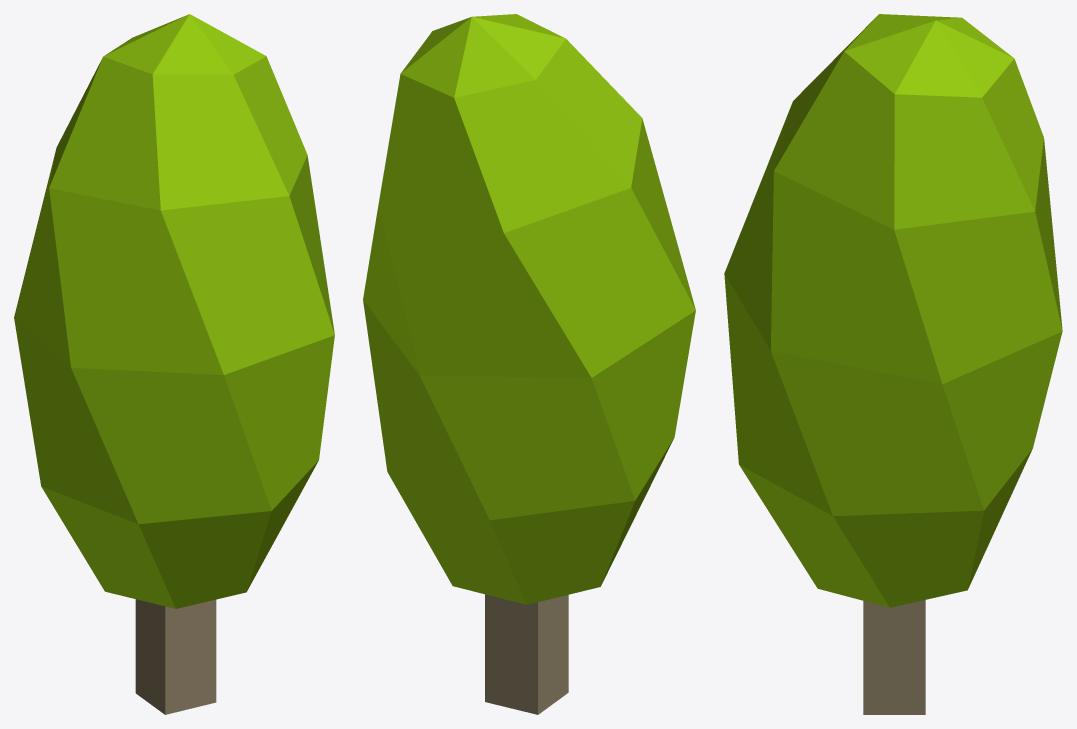
Rendered from tree_cylinder_2.fbx.
The picture shows the model from 3 angles, left to right: view 1: azimuth 30°, elevation 25°; view 2: azimuth 150°, elevation 25°; view 3: azimuth 270°, elevation 25°; orthographic projection. The views are drawn at different scales.
Parts seen in each view (by area): view 1: tree_cylinder_2; view 2: tree_cylinder_2; view 3: tree_cylinder_2.
Boxes of the visible parts, x1=… form: tree_cylinder_2: x1=14, y1=14, x2=334, y2=714; tree_cylinder_2: x1=363, y1=14, x2=695, y2=714; tree_cylinder_2: x1=724, y1=14, x2=1062, y2=714.
Bounding box in the file's own units: 64.81 × 152 × 66.83.
